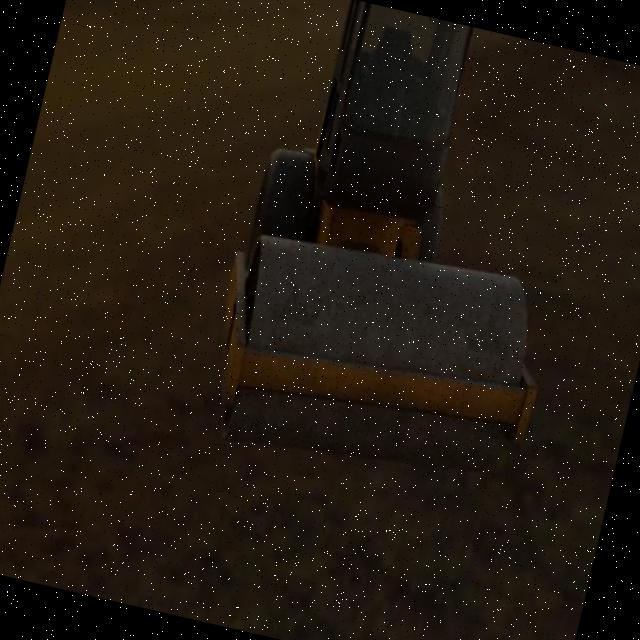Roller: (192, 0, 612, 506)
